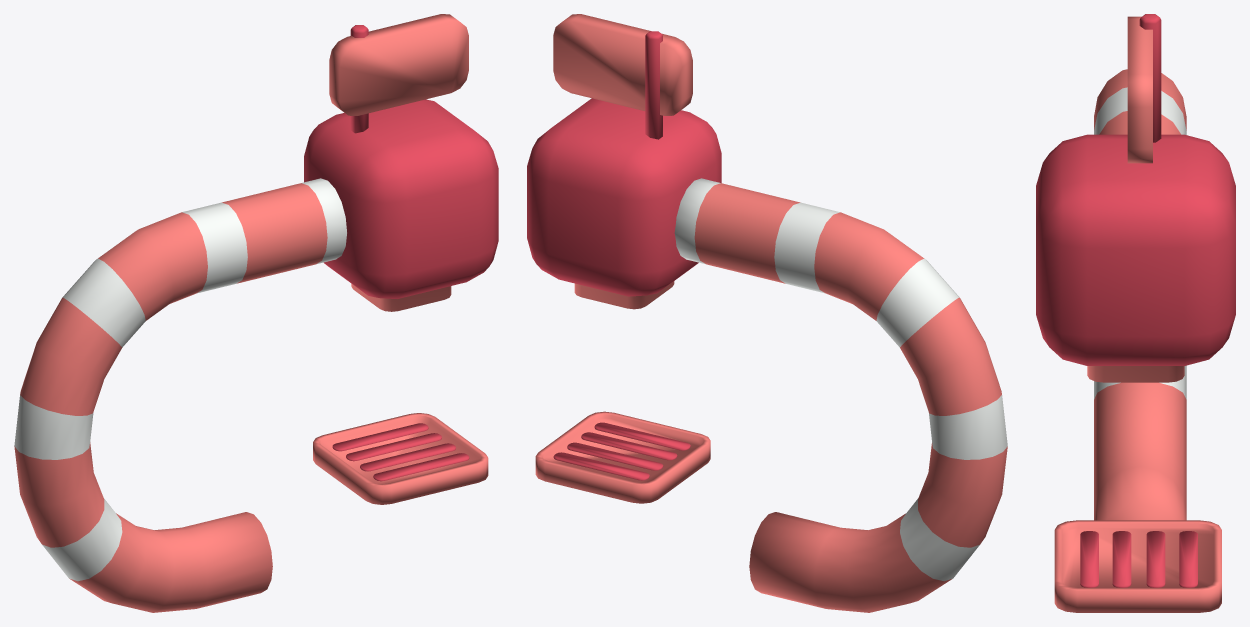
Rendered from Machine2.fbx.
The picture shows the model from 3 angles, left to right: view 1: azimuth 30°, elevation 25°; view 2: azimuth 150°, elevation 25°; view 3: azimuth 270°, elevation 25°; orthographic projection. The views are drawn at different scales.
Visible parts, largest first — view 1: Cylinder.017, Cube.044, Cube.045, Cube.048, Cube.051, Cube.049, Cube.052, Cube.050; view 2: Cylinder.017, Cube.044, Cube.045, Cube.048, Cylinder.020, Cube.049, Cube.051, Cube.052, Cube.050; view 3: Cube.044, Cylinder.017, Cube.048, Cube.045, Cylinder.020, Cube.049, Cube.050, Cube.051, Cube.052.
Boxes of the visible parts, x1=… form: Cylinder.017: x1=14, y1=178, x2=346, y2=612; Cube.044: x1=304, y1=99, x2=498, y2=311; Cube.045: x1=329, y1=14, x2=468, y2=115; Cube.048: x1=313, y1=413, x2=488, y2=504; Cube.051: x1=332, y1=423, x2=428, y2=451; Cube.049: x1=360, y1=443, x2=455, y2=471; Cube.052: x1=373, y1=453, x2=469, y2=481; Cube.050: x1=346, y1=433, x2=441, y2=461; Cylinder.017: x1=674, y1=178, x2=1007, y2=612; Cube.044: x1=527, y1=98, x2=721, y2=309; Cube.045: x1=553, y1=14, x2=692, y2=115; Cube.048: x1=535, y1=411, x2=710, y2=503; Cylinder.020: x1=645, y1=31, x2=662, y2=139; Cube.049: x1=581, y1=432, x2=677, y2=460; Cube.051: x1=553, y1=452, x2=649, y2=480; Cube.052: x1=594, y1=422, x2=690, y2=450; Cube.050: x1=567, y1=442, x2=663, y2=470; Cube.044: x1=1036, y1=134, x2=1235, y2=382; Cylinder.017: x1=1094, y1=69, x2=1186, y2=520; Cube.048: x1=1054, y1=520, x2=1221, y2=612; Cube.045: x1=1127, y1=16, x2=1152, y2=163; Cylinder.020: x1=1139, y1=14, x2=1161, y2=142; Cube.049: x1=1112, y1=531, x2=1131, y2=587; Cube.050: x1=1146, y1=531, x2=1165, y2=587; Cube.051: x1=1179, y1=531, x2=1197, y2=587; Cube.052: x1=1080, y1=531, x2=1098, y2=587.
Size of the model in its own units: 176 by 198 by 55.61.
